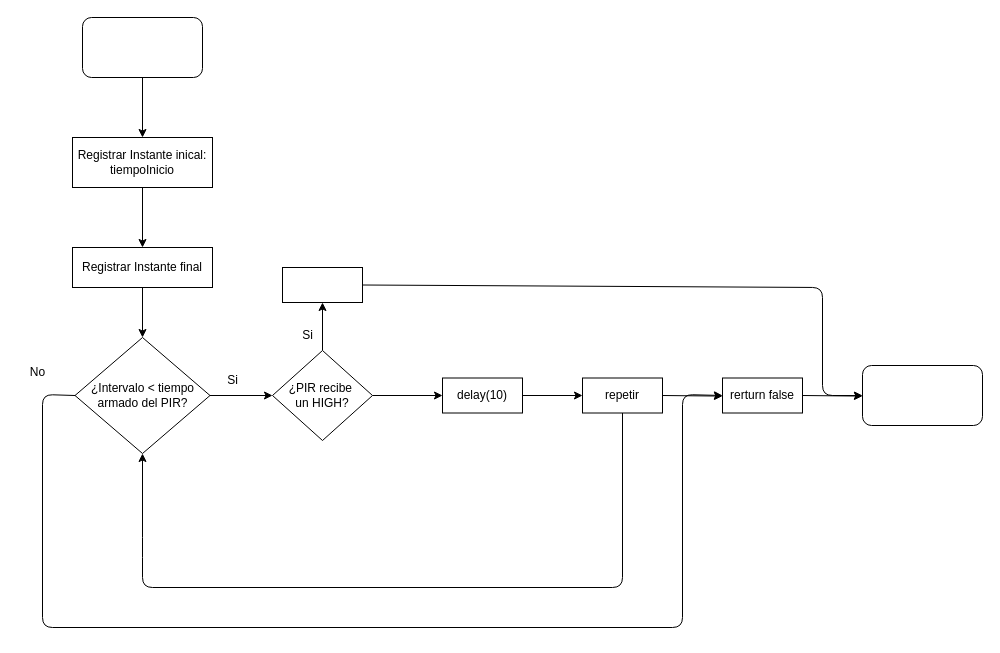
This 1000x653 diagram has some shape labels left out. The centre of each missing label's shape, as x and y in pixels:
Fin: the point at 922,395
Inicio: the point at 142,47
return true: the point at 322,284
